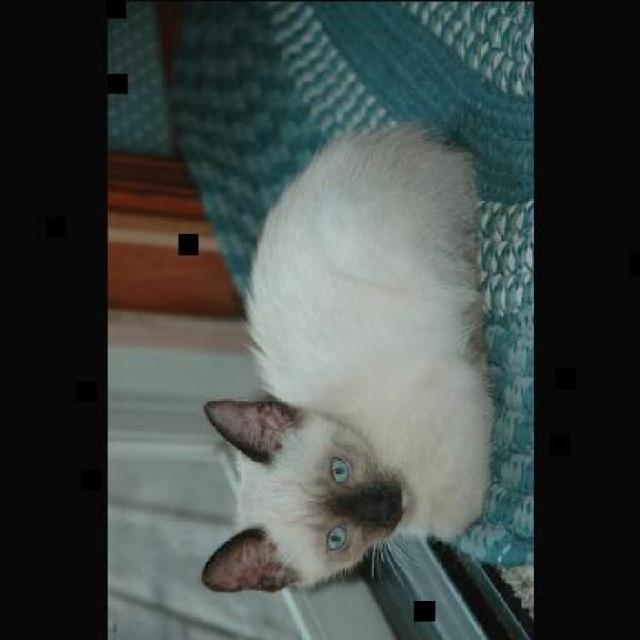unauthorized: (198, 120, 496, 594)
